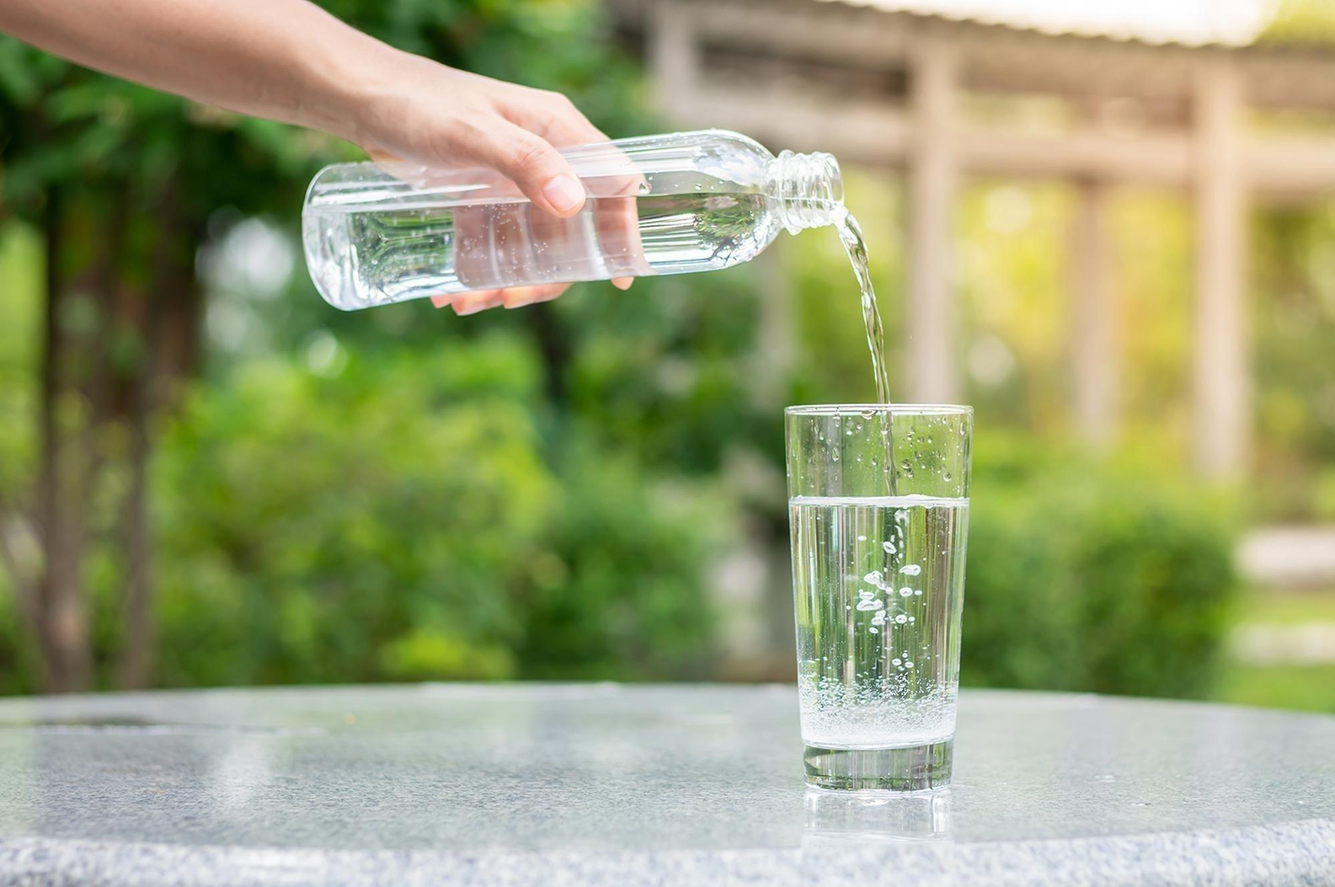bottle-plastic: (297, 131, 848, 310)
glass-normal: (782, 398, 979, 795)
